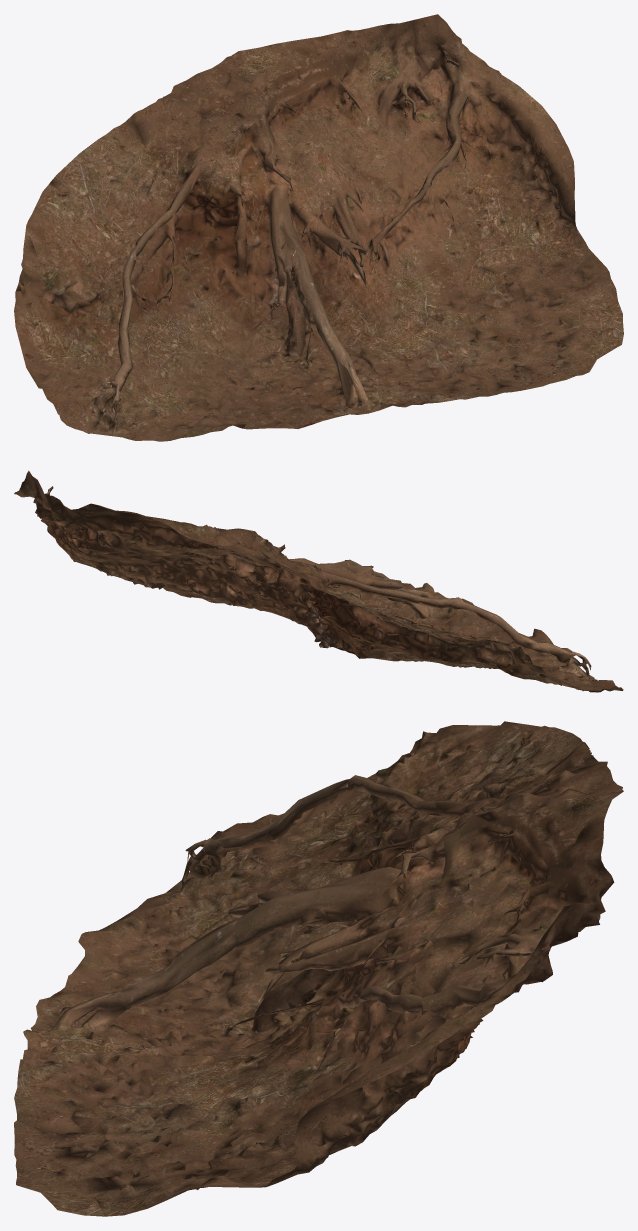
The model's file is root_cluster_01.glb.
The picture shows the model from 3 angles, top to bottom: view 1: azimuth 30°, elevation 25°; view 2: azimuth 150°, elevation 25°; view 3: azimuth 270°, elevation 25°; orthographic projection. The views are drawn at different scales.
Parts seen in each view (by area): view 1: root_cluster_01; view 2: root_cluster_01; view 3: root_cluster_01.
Boxes of the visible parts, bbox=[...] form: root_cluster_01: bbox=[14, 14, 623, 441]; root_cluster_01: bbox=[14, 470, 623, 692]; root_cluster_01: bbox=[14, 721, 623, 1216].
Size of the model in its own units: 4.12 by 1.51 by 2.68.
Materials: 1 (1 with a texture image).
